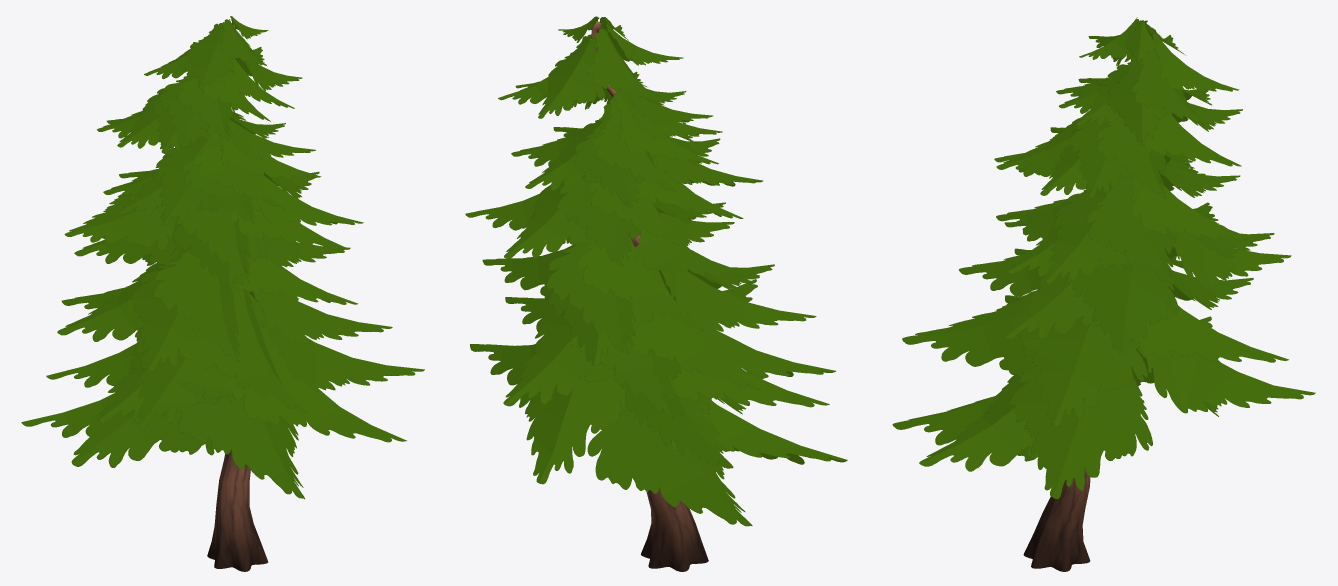
The model's file is Pine_5.glb.
3 views of the same model, side by side, from view 1: azimuth 30°, elevation 25°; view 2: azimuth 150°, elevation 25°; view 3: azimuth 270°, elevation 25° (orthographic). The views are drawn at different scales.
Size of the model in its own units: 6.42 by 8.72 by 6.22.
Materials: 2 (2 with a texture image).
